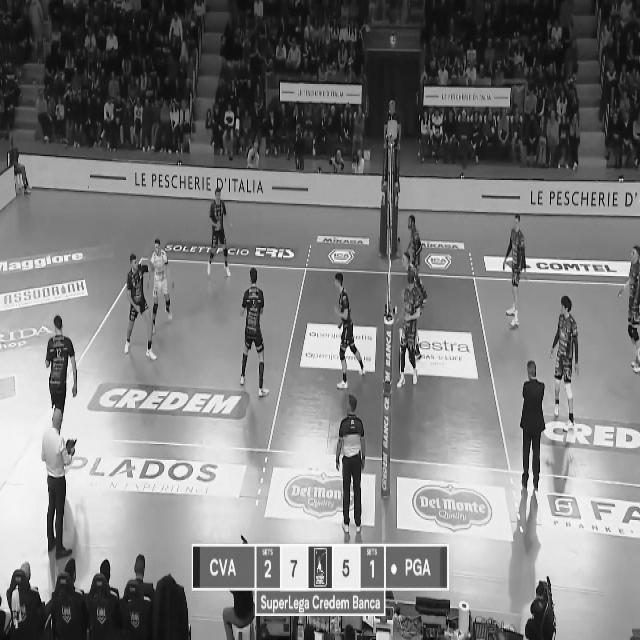volleyball court: (61, 257, 638, 487)
